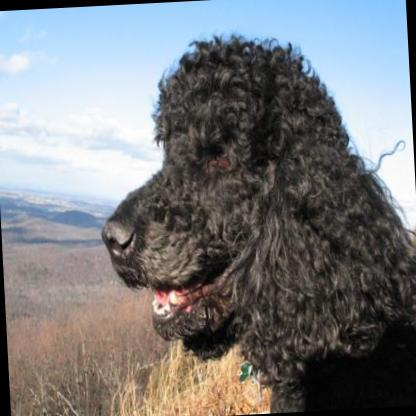standard_poodle: (80, 12, 416, 416)
